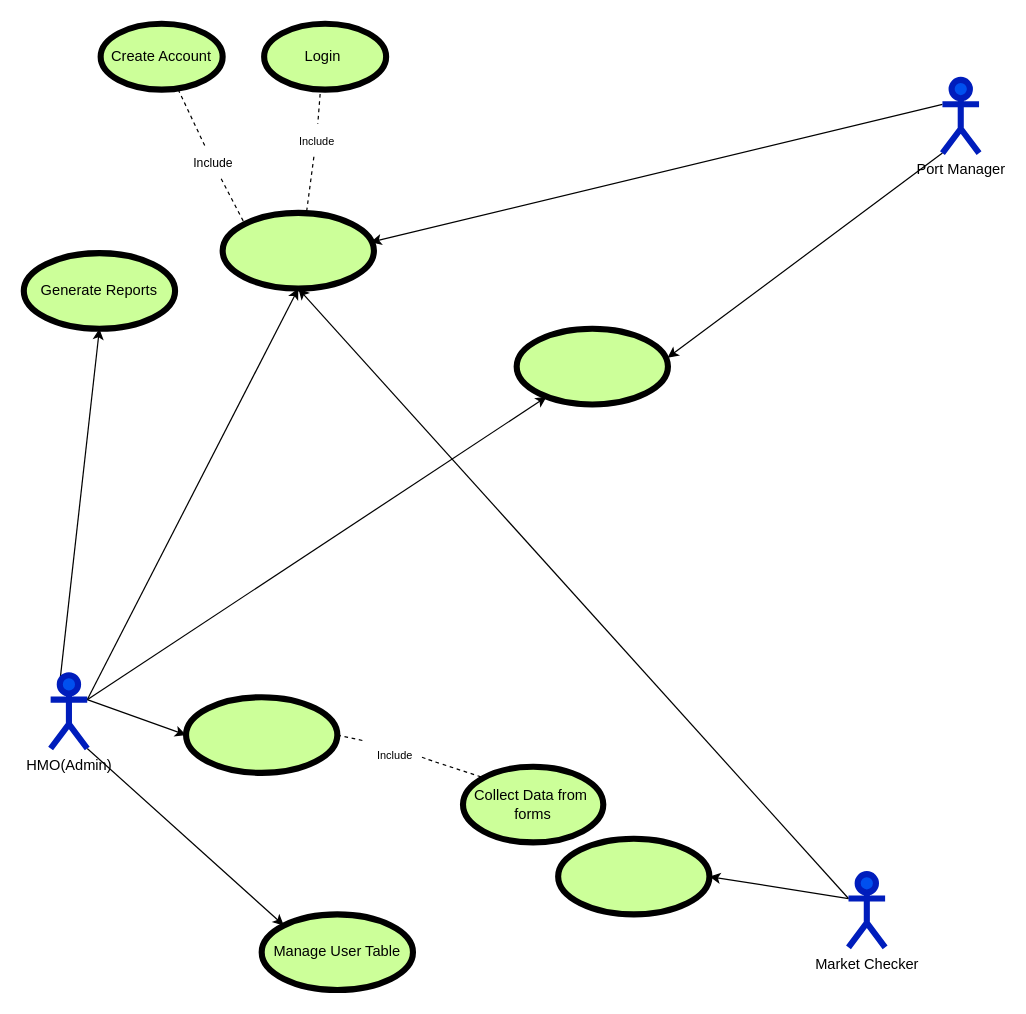
This 1026x1014 diagram has some shape labels left out. Each missing label, with the centre of its shape:
Input Data on Market Checking Form: (633,876)
IsdaanIS Web Application: (297,250)
Manage Market Checking History: (261,734)
View VIsualization: (591,366)
